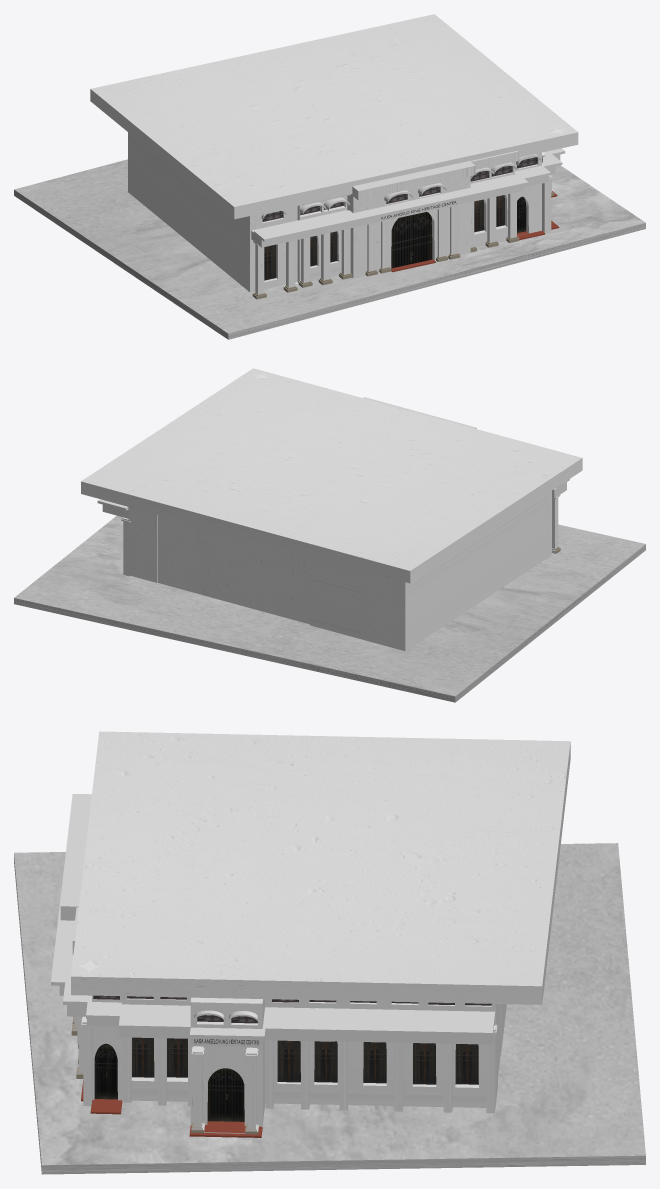
File: Bahay Tsinoy.glb
3 views of the same model, one above another, from view 1: azimuth 30°, elevation 25°; view 2: azimuth 150°, elevation 25°; view 3: azimuth 270°, elevation 25° (orthographic). The views are drawn at different scales.
Parts seen in each view (by area): view 1: Cube, Cube.067, Cube.008, Circle.001, Cube.020, Cube.007, Cube.019, Cube.022, Cube.029, Cube.030, Cube.026, Cube.024 (+7 smaller); view 2: Cube, Cube.067, Cube.008; view 3: Cube, Cube.067, Cube.008, Cube.038, Circle.020, Cube.037, Cube.034, Cube.044, Circle.021, Circle.026, Circle.027, Cube.019 (+17 smaller).
Boxes of the visible parts, x1,y1,x2,y2 form: Cube: [90, 14, 578, 219]; Cube.067: [14, 159, 645, 339]; Cube.008: [128, 132, 559, 292]; Circle.001: [391, 212, 432, 268]; Cube.020: [254, 205, 392, 241]; Cube.007: [369, 191, 462, 217]; Cube.019: [456, 174, 528, 199]; Cube.022: [274, 210, 372, 242]; Cube.029: [252, 241, 266, 299]; Cube.030: [283, 240, 297, 292]; Cube.026: [318, 233, 332, 285]; Cube.024: [542, 175, 553, 233]; Cube: [81, 368, 582, 583]; Cube.067: [14, 515, 645, 702]; Cube.008: [128, 397, 551, 651]; Cube: [71, 731, 570, 1004]; Cube.067: [14, 843, 645, 1174]; Cube.008: [60, 822, 506, 1137]; Cube.038: [313, 1008, 495, 1036]; Circle.020: [207, 1068, 244, 1121]; Cube.037: [263, 1007, 338, 1033]; Cube.034: [118, 1004, 190, 1030]; Cube.044: [335, 1033, 492, 1044]; Circle.021: [94, 1043, 117, 1099]; Circle.026: [277, 1040, 300, 1082]; Circle.027: [314, 1041, 337, 1082]; Cube.019: [51, 932, 73, 985].
Size of the model in its own units: 111 by 24.97 by 91.96.
Materials: 9 (6 with a texture image).
